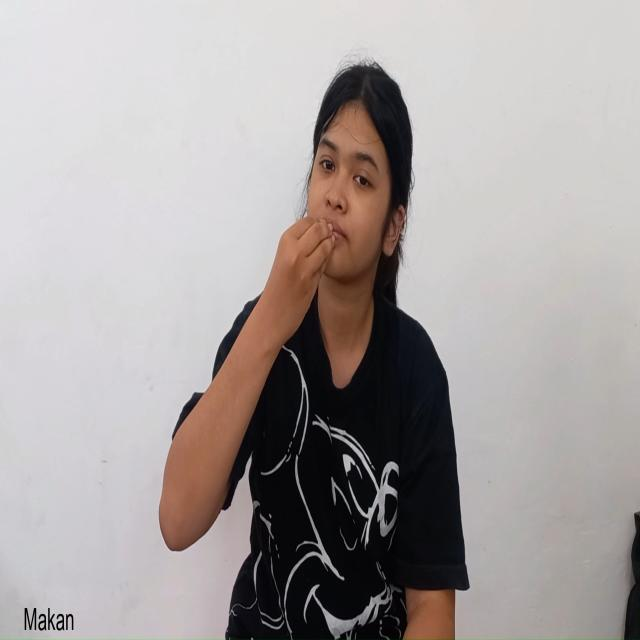Makan -BISINDO-: (263, 65, 405, 356)
